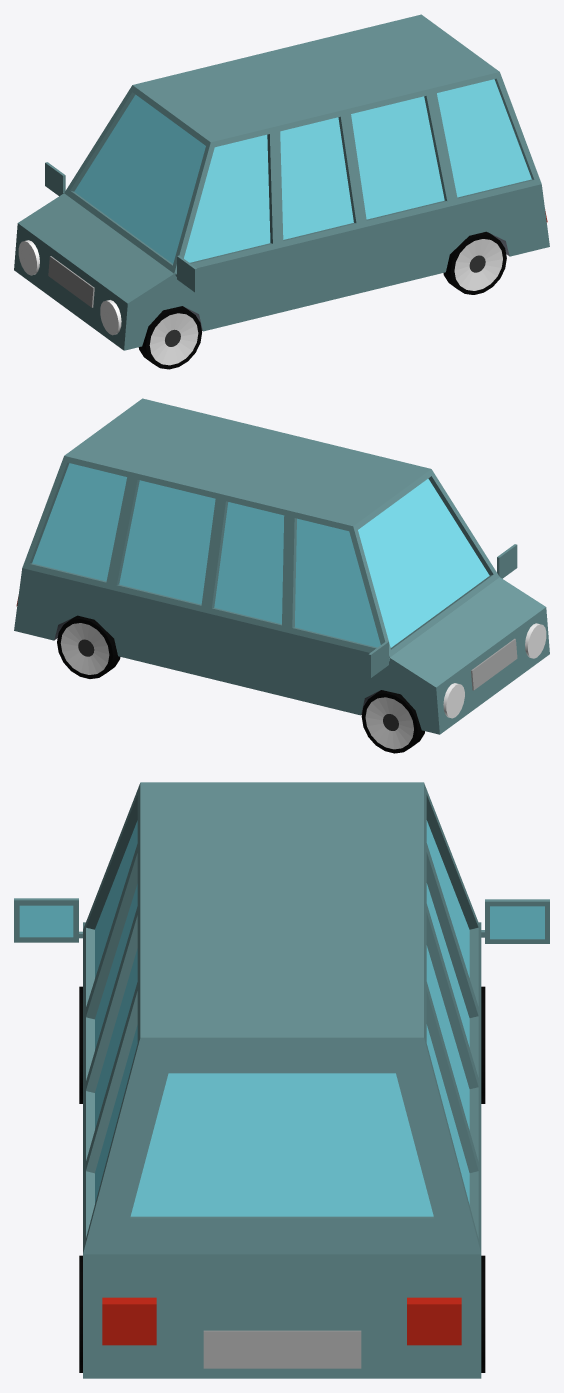
The model's file is car3B.FBX.
The picture shows the model from 3 angles, top to bottom: view 1: azimuth 30°, elevation 25°; view 2: azimuth 150°, elevation 25°; view 3: azimuth 270°, elevation 25°; orthographic projection. The views are drawn at different scales.
Parts seen in each view (by area): view 1: car3B; view 2: car3B; view 3: car3B.
Boxes of the visible parts, x1=… form: car3B: x1=14, y1=14, x2=549, y2=369; car3B: x1=14, y1=398, x2=549, y2=753; car3B: x1=14, y1=782, x2=549, y2=1378.
Bounding box in the file's own units: 12.5 × 5.57 × 7.46.
